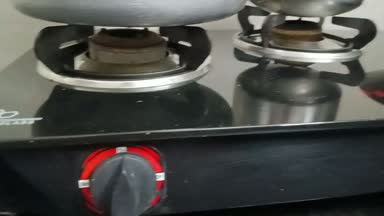noflame_gason: (58, 24, 185, 216)
